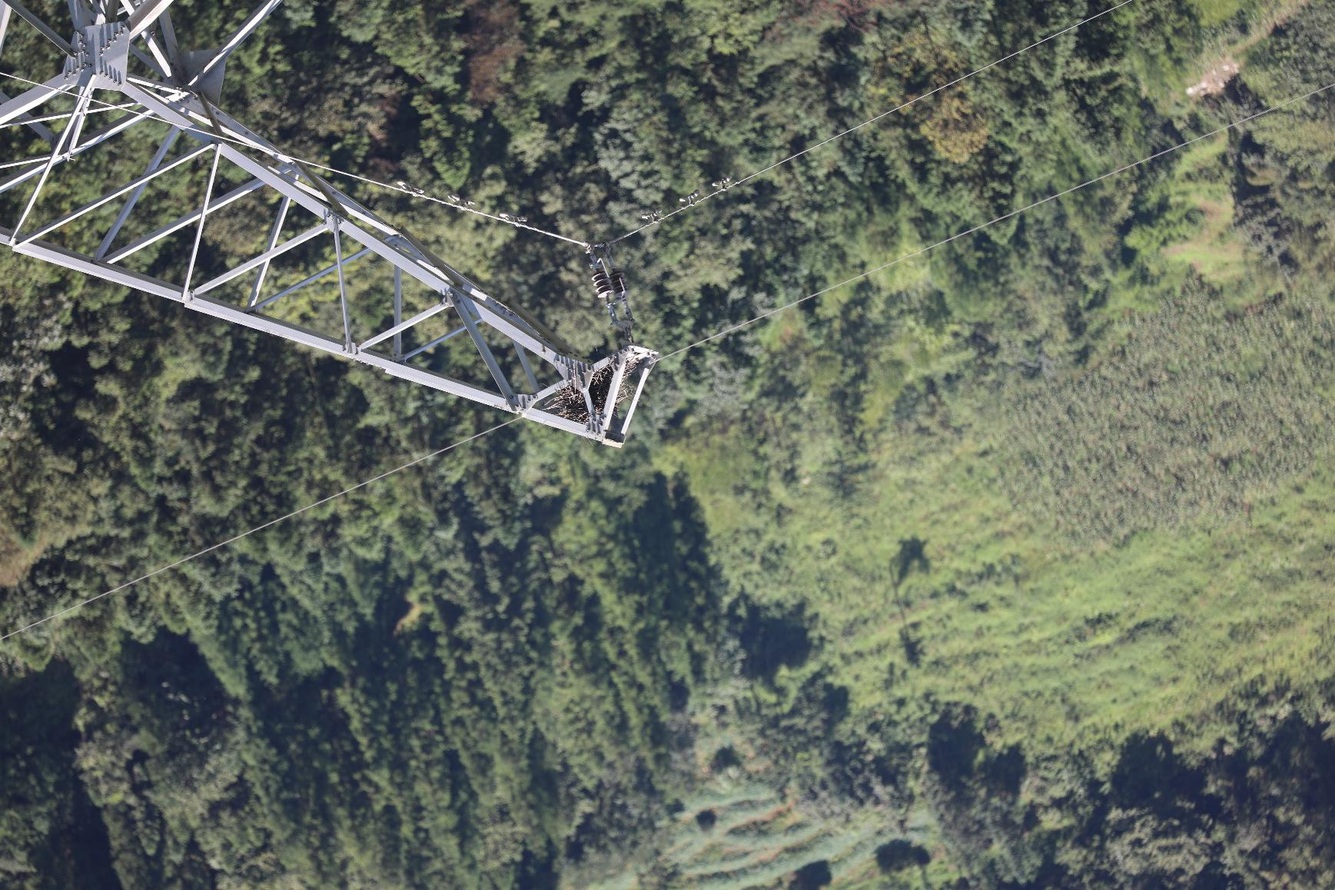damper: (445, 191, 478, 214), (394, 178, 426, 199), (496, 210, 530, 229), (709, 173, 736, 194), (639, 206, 665, 227), (677, 188, 702, 209)
nest: (548, 357, 640, 426)
